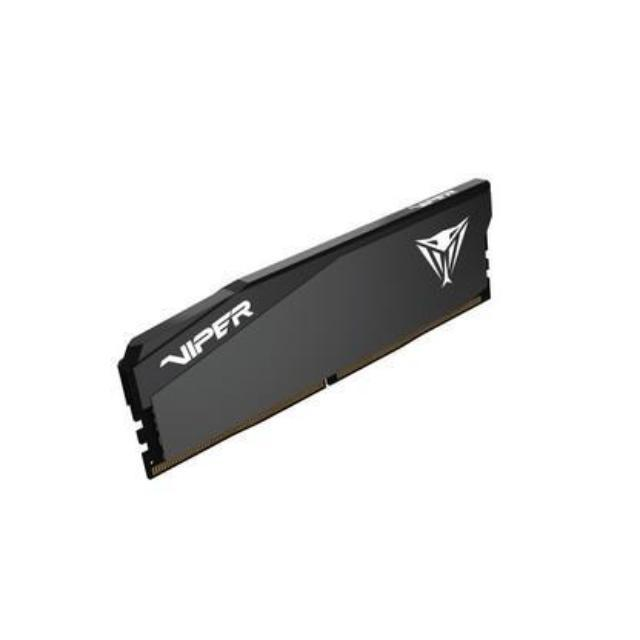RAM: (109, 170, 500, 484)
